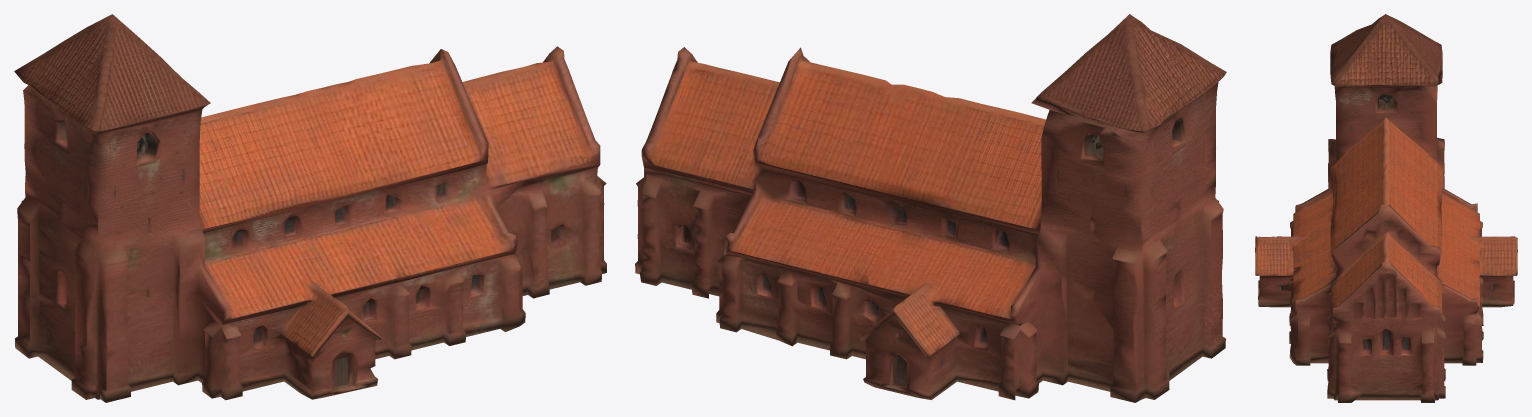
File: herrevad_abbey.glb
3 renders of one model, left to right at view 1: azimuth 30°, elevation 25°; view 2: azimuth 150°, elevation 25°; view 3: azimuth 270°, elevation 25°, orthographic. The views are drawn at different scales.
Parts seen in each view (by area): view 1: tripo_node_5d5b271b-8d37-4e47-9b06-0320e8a0ca4e; view 2: tripo_node_5d5b271b-8d37-4e47-9b06-0320e8a0ca4e; view 3: tripo_node_5d5b271b-8d37-4e47-9b06-0320e8a0ca4e.
Boxes of the visible parts, box(x1,y1,x2,y2) form: tripo_node_5d5b271b-8d37-4e47-9b06-0320e8a0ca4e: box(14, 14, 606, 402); tripo_node_5d5b271b-8d37-4e47-9b06-0320e8a0ca4e: box(635, 14, 1226, 402); tripo_node_5d5b271b-8d37-4e47-9b06-0320e8a0ca4e: box(1255, 14, 1517, 402).
Bounding box in the file's own units: 0.98 × 0.62 × 0.6263.
1 material, 1 textured.
